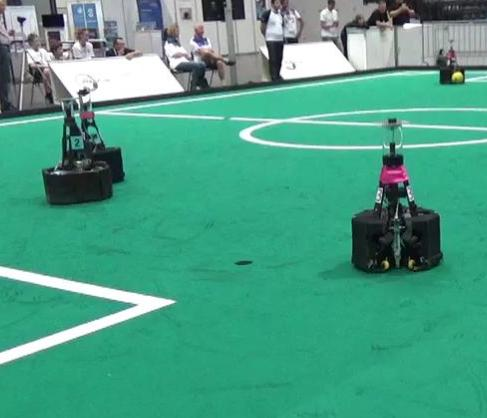robot: (347, 117, 445, 277), (36, 93, 118, 206)
